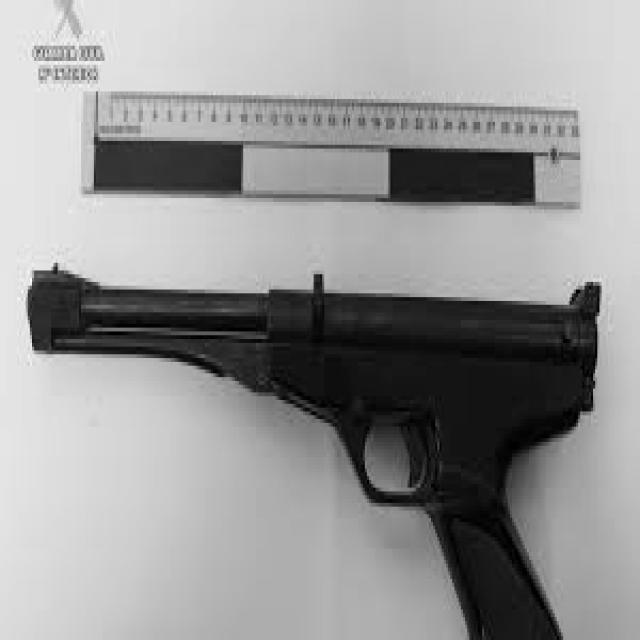handgun: (24, 267, 601, 640)
